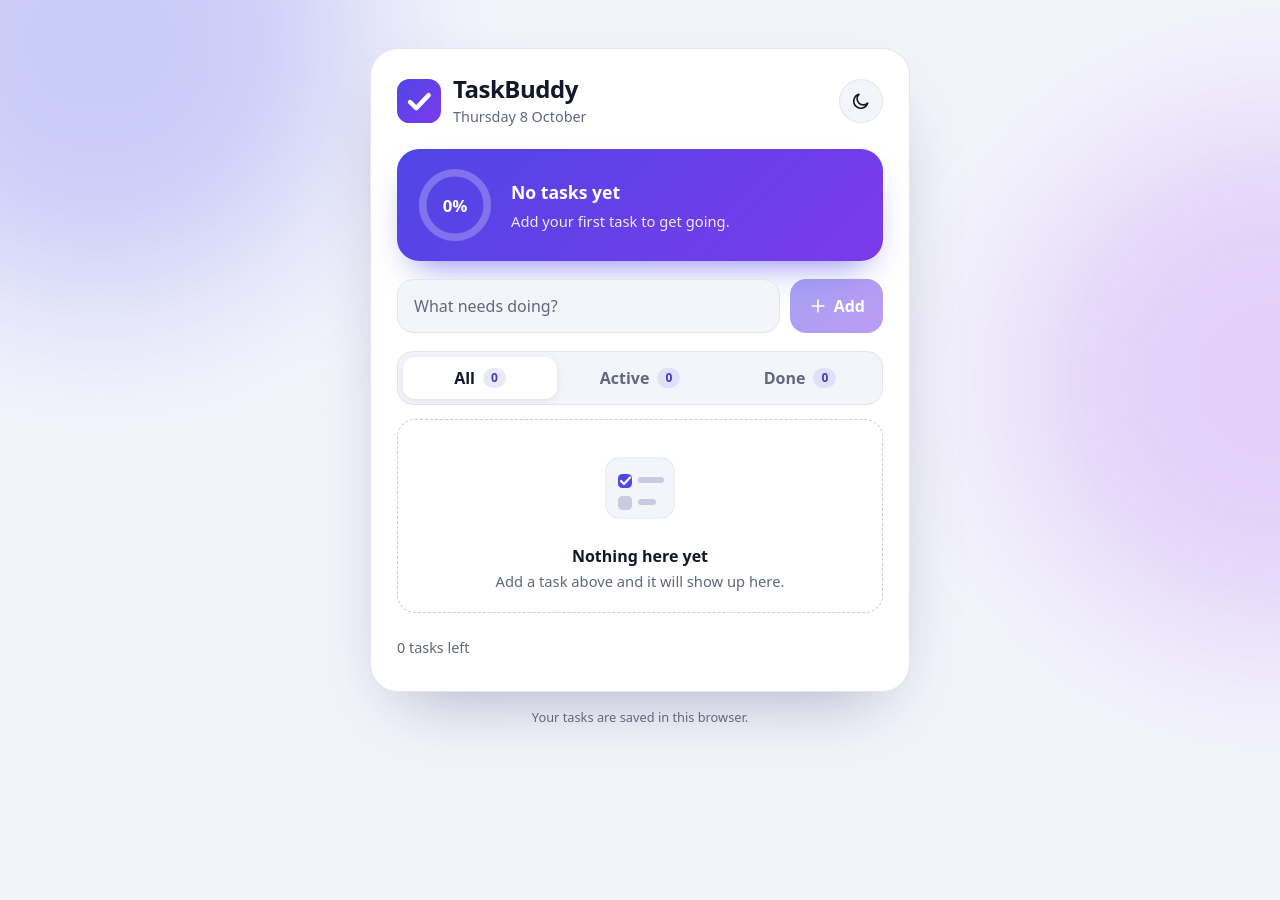
TaskBuddy › adds tasks with Enter or the button, newest first, and clears the input
Type "Write report" into the field named "New task". click: [588, 306]
box: [397,279,780,333]
Then press Enter
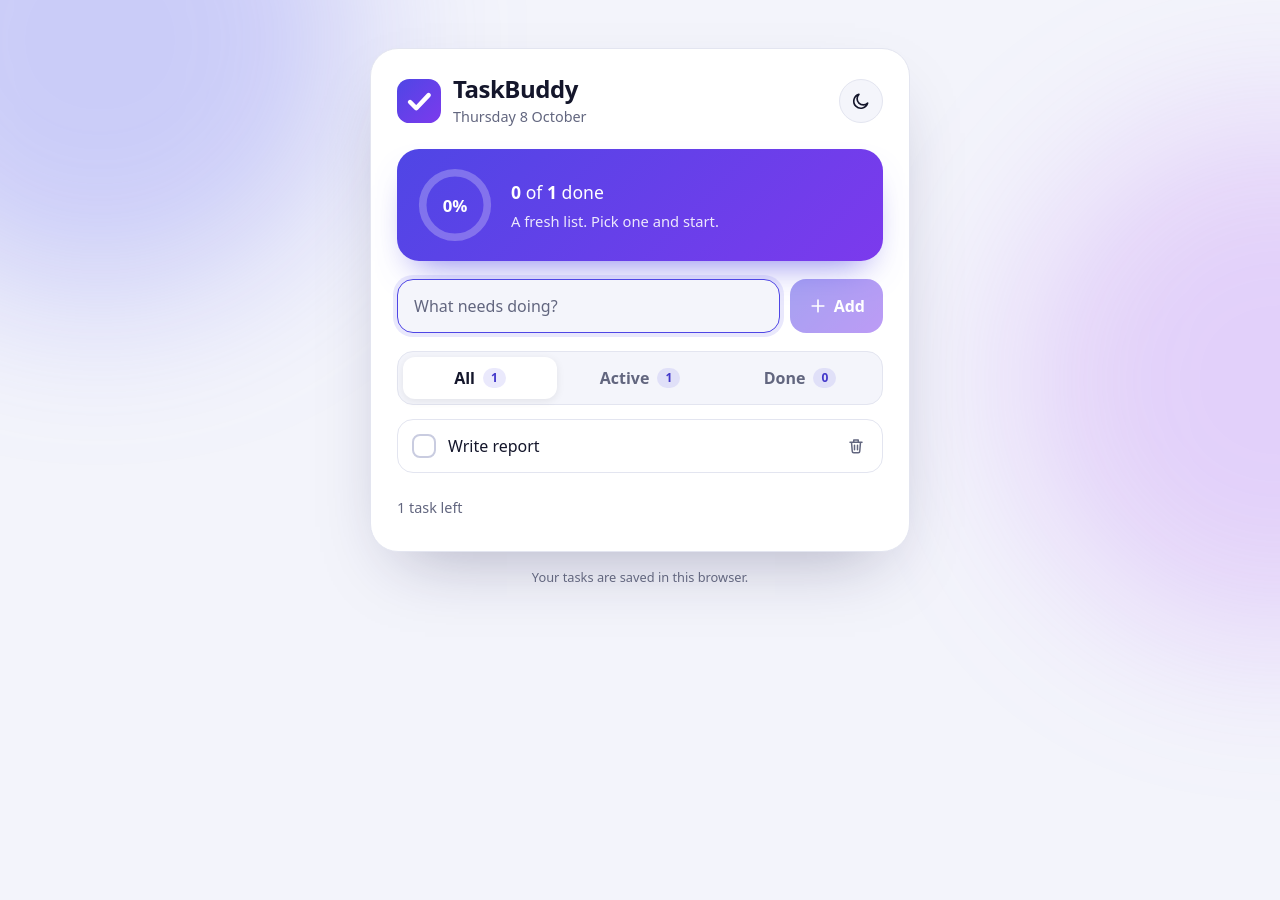
Type "Book tickets" into the field named "New task". click: [588, 306]
box: [397,279,780,333]
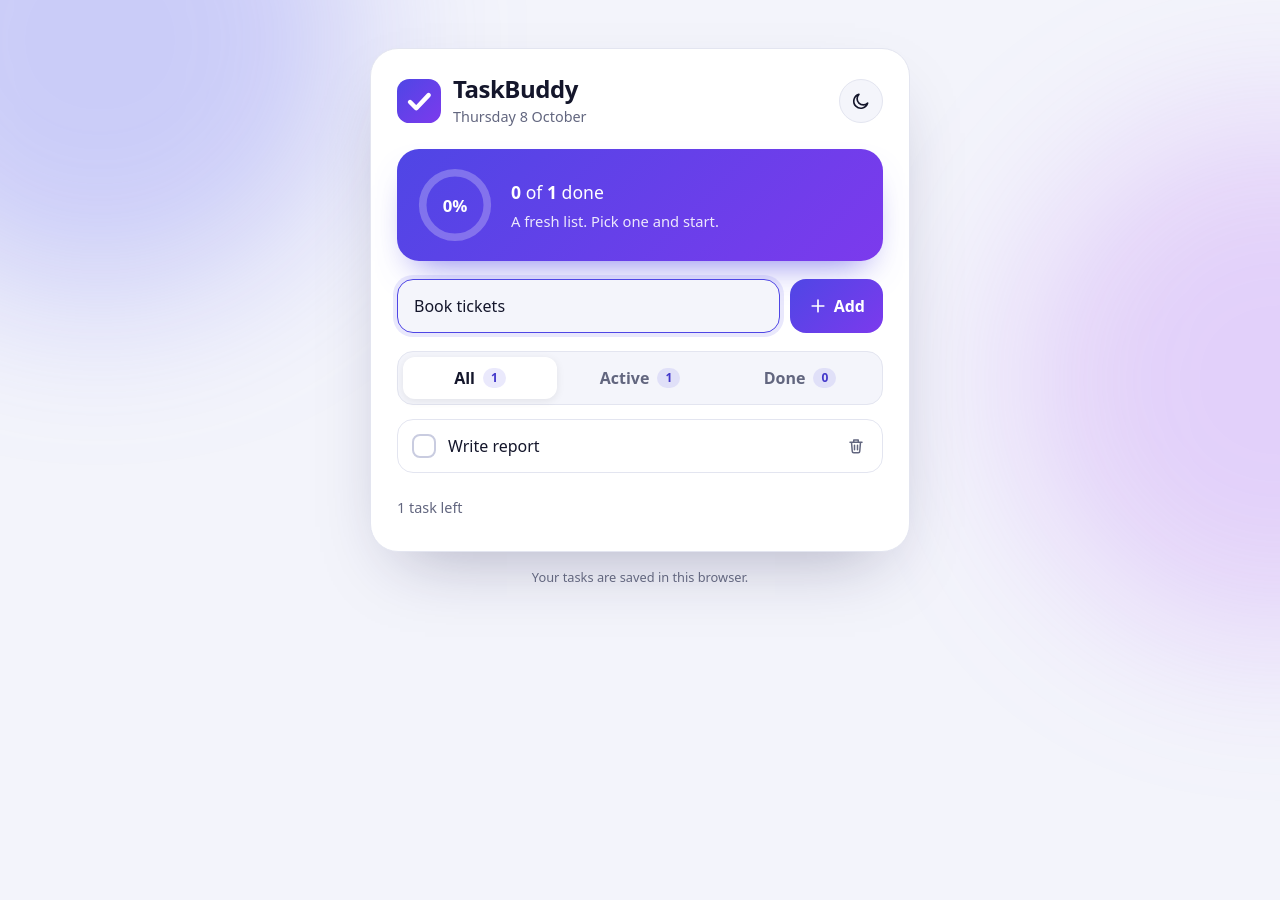
Click the button with aria-label "Add task". click: [836, 306]
box: [790,279,883,333]
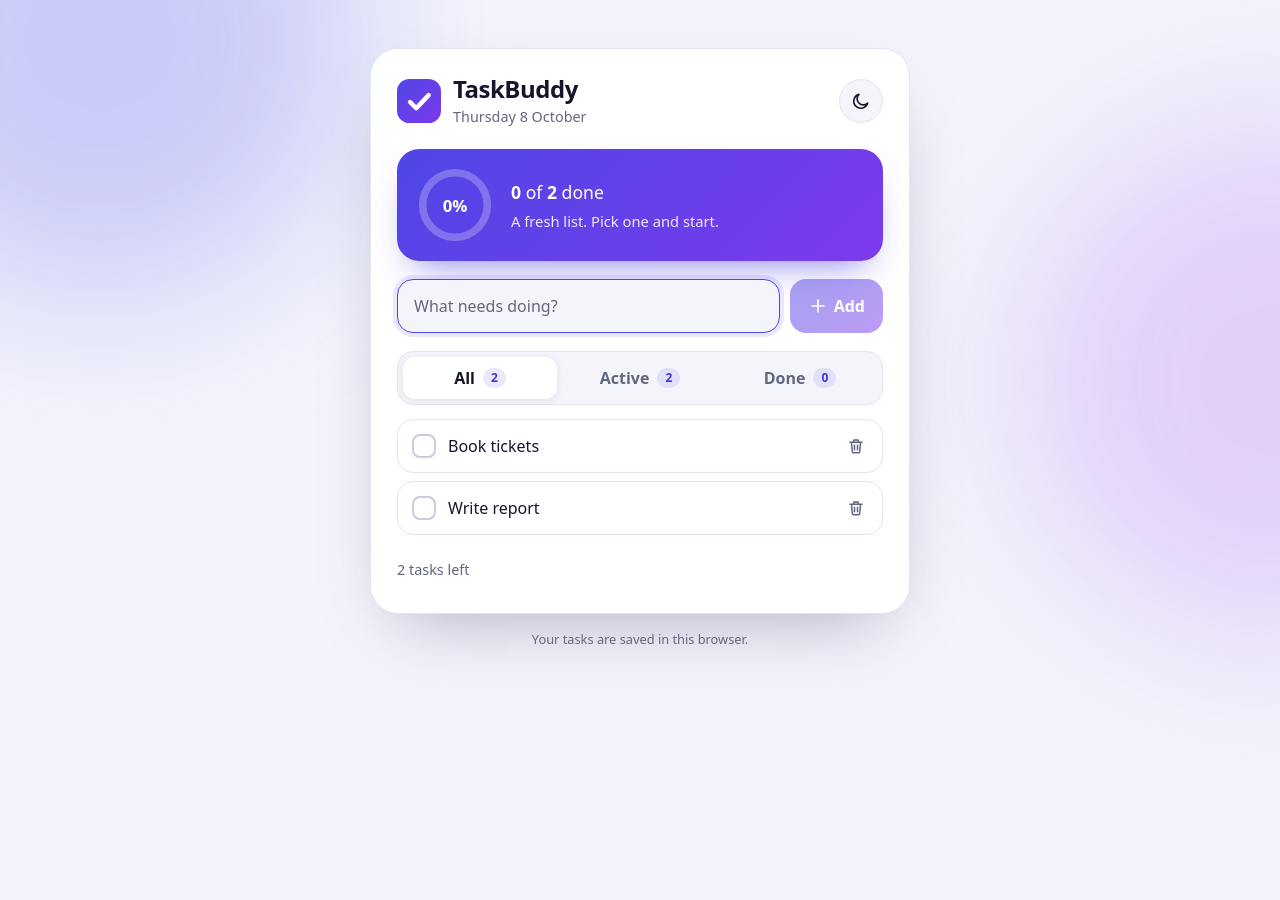
Check: the list items read "Book tickets", "Write report", in this order, box [397,419,883,473]; [397,481,883,535]
Check: the field named "New task" is empty, box [397,279,780,333]
Check: the text "2 tasks left" is shown, box [397,559,470,580]
